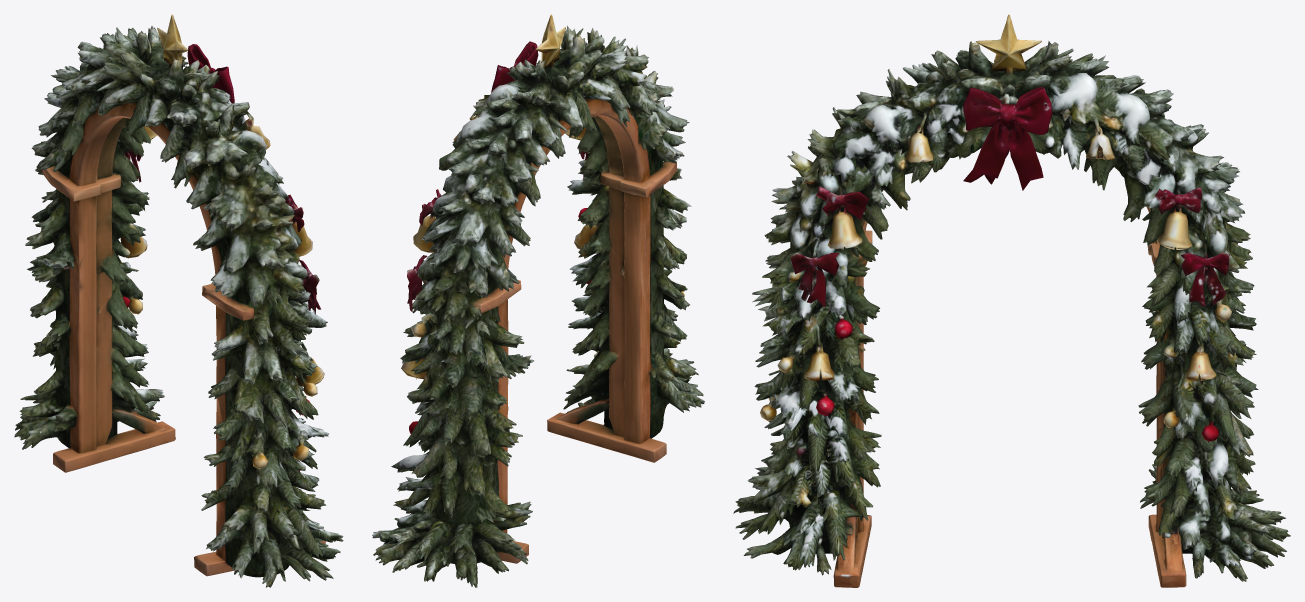
The model's file is christmas-arch-winter.glb.
3 renders of one model, left to right at view 1: azimuth 30°, elevation 25°; view 2: azimuth 150°, elevation 25°; view 3: azimuth 270°, elevation 25°, orthographic. The views are drawn at different scales.
Visible parts, largest first — view 1: tripo_node_872e84ec-6ce1-4d62-a60c-b87c5dc48355; view 2: tripo_node_872e84ec-6ce1-4d62-a60c-b87c5dc48355; view 3: tripo_node_872e84ec-6ce1-4d62-a60c-b87c5dc48355.
Boxes of the visible parts, x1,y1,x2,y2 form: tripo_node_872e84ec-6ce1-4d62-a60c-b87c5dc48355: (14,14,343,587); tripo_node_872e84ec-6ce1-4d62-a60c-b87c5dc48355: (372,14,704,587); tripo_node_872e84ec-6ce1-4d62-a60c-b87c5dc48355: (733,14,1290,587).
Size of the model in its own units: 0.2918 by 0.9804 by 0.9244.
Materials: 1 (1 with a texture image).
